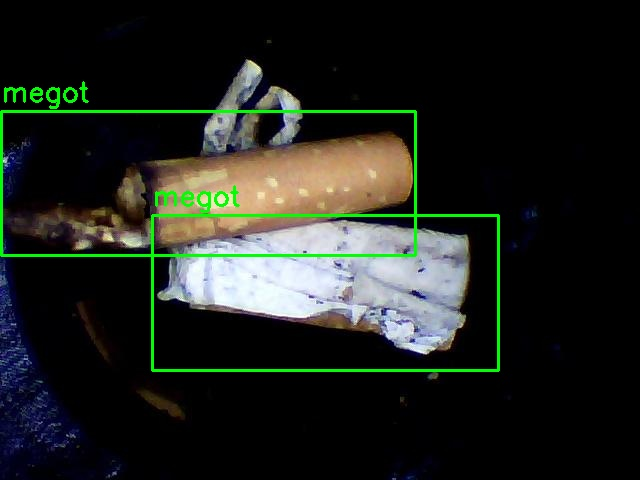megot: (1, 111, 415, 255), (152, 215, 498, 370)
